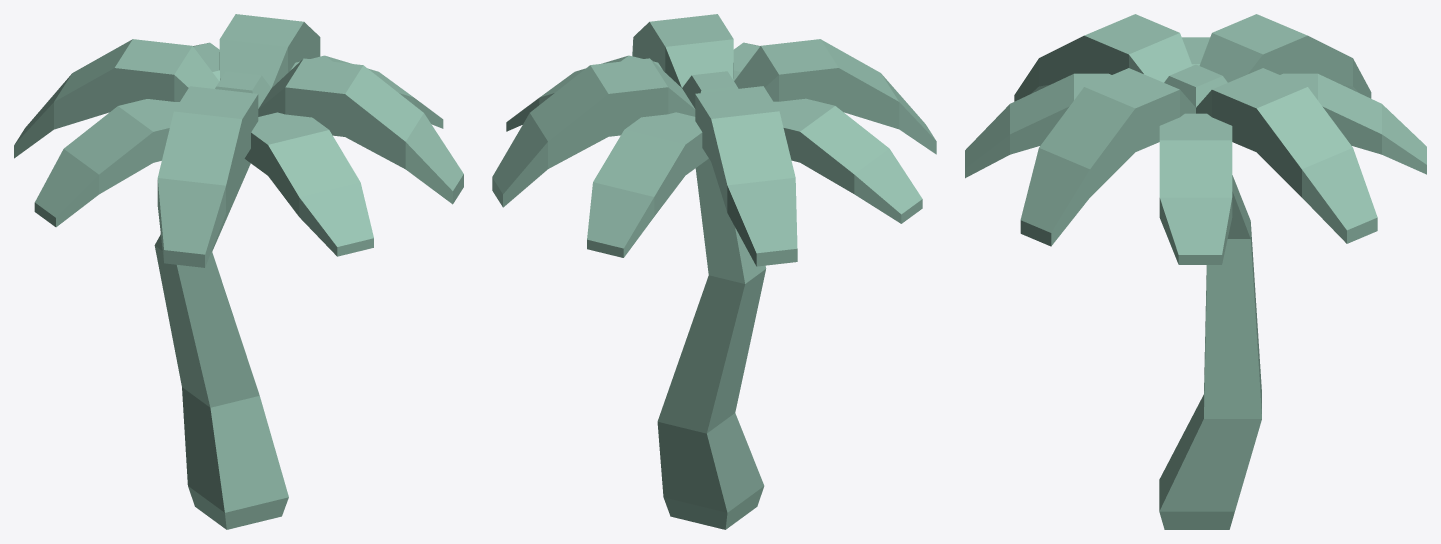
File: naturePack_168.fbx
3 views of the same model, side by side, from view 1: azimuth 30°, elevation 25°; view 2: azimuth 150°, elevation 25°; view 3: azimuth 270°, elevation 25° (orthographic). The views are drawn at different scales.
Parts seen in each view (by area): view 1: naturePack_168; view 2: naturePack_168; view 3: naturePack_168.
Part boxes in pixels (left/top/right/bottom): naturePack_168: left=14, top=14, right=463, bottom=529; naturePack_168: left=492, top=14, right=936, bottom=529; naturePack_168: left=965, top=14, right=1426, bottom=529.
Bounding box in the file's own units: 309 × 336 × 309.
